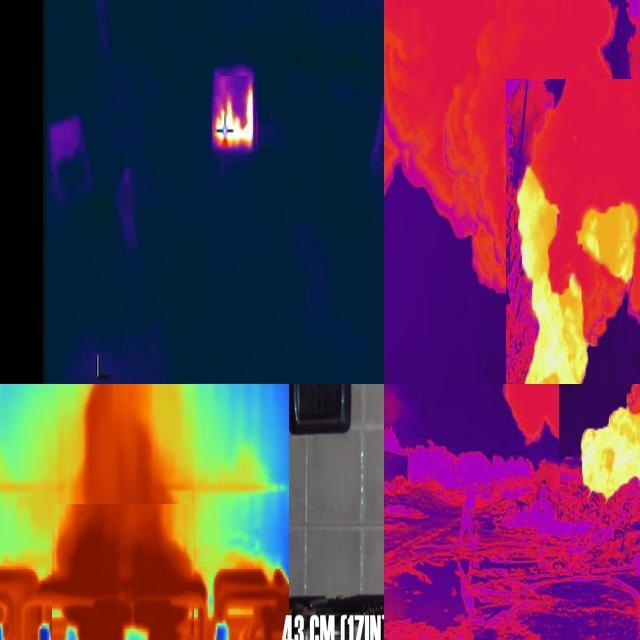fire: (507, 160, 640, 385), (53, 528, 197, 640), (581, 409, 640, 500), (213, 77, 257, 154)
